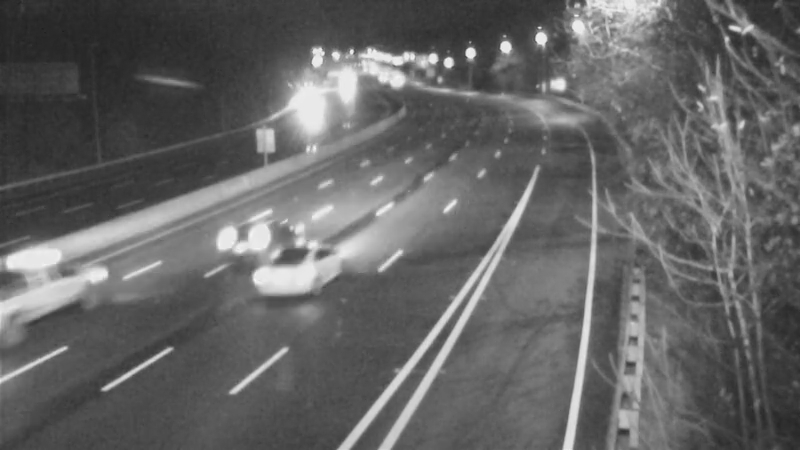vehicle: (206, 206, 286, 286), (252, 243, 332, 323), (12, 248, 92, 328)
